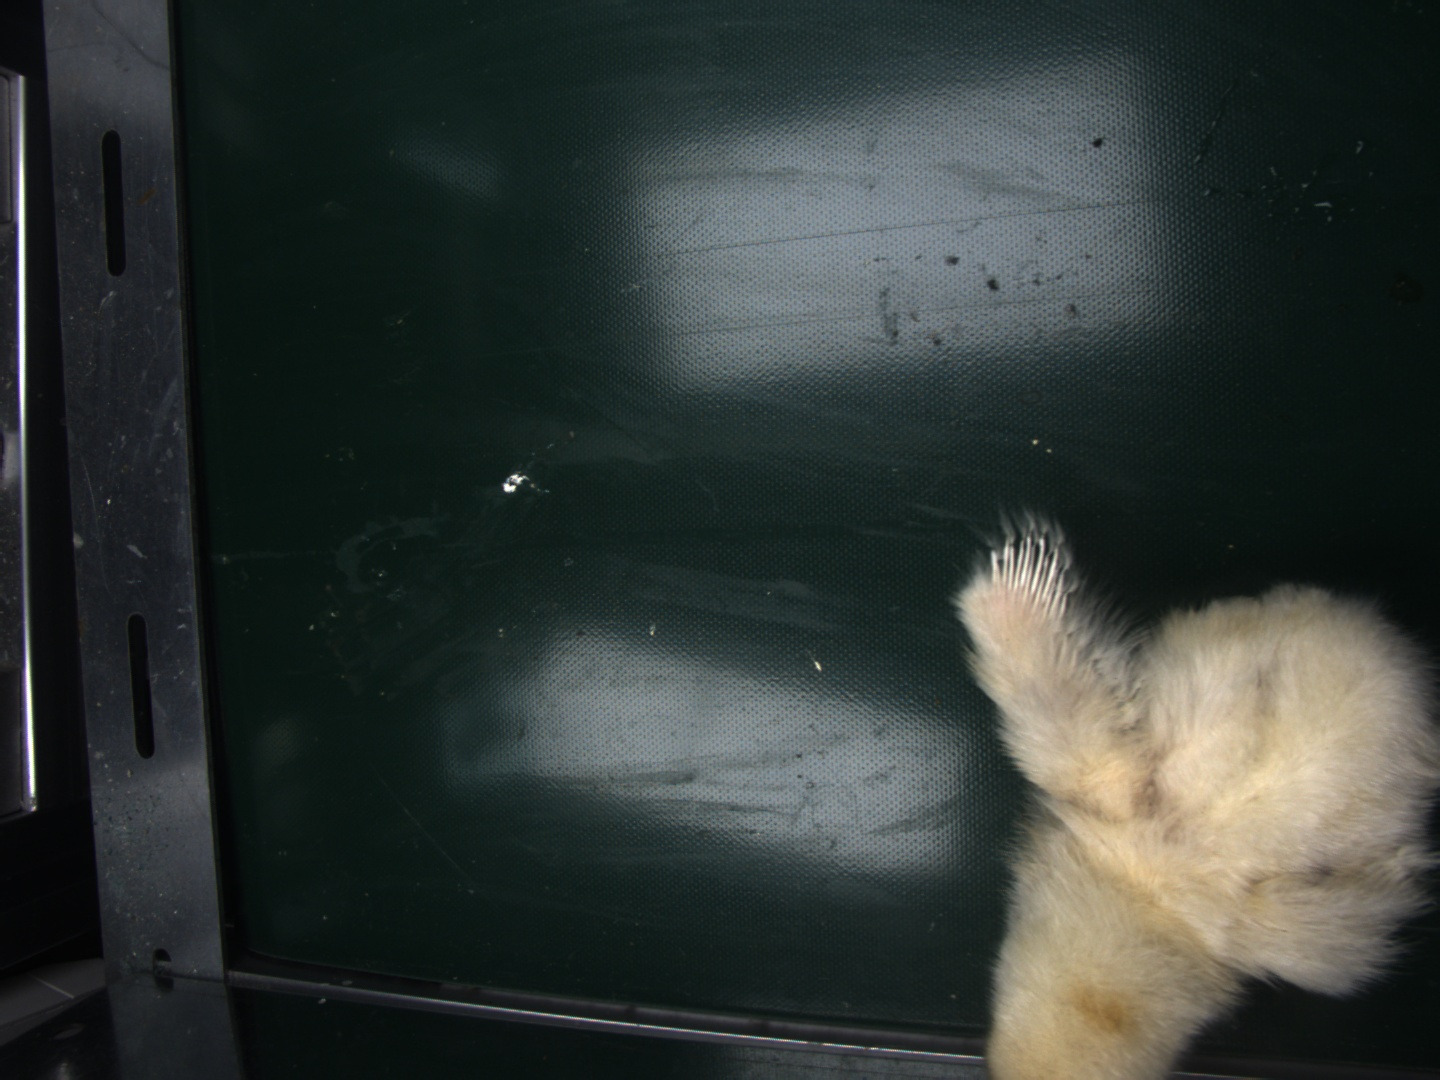male: (993, 535, 1068, 607)
